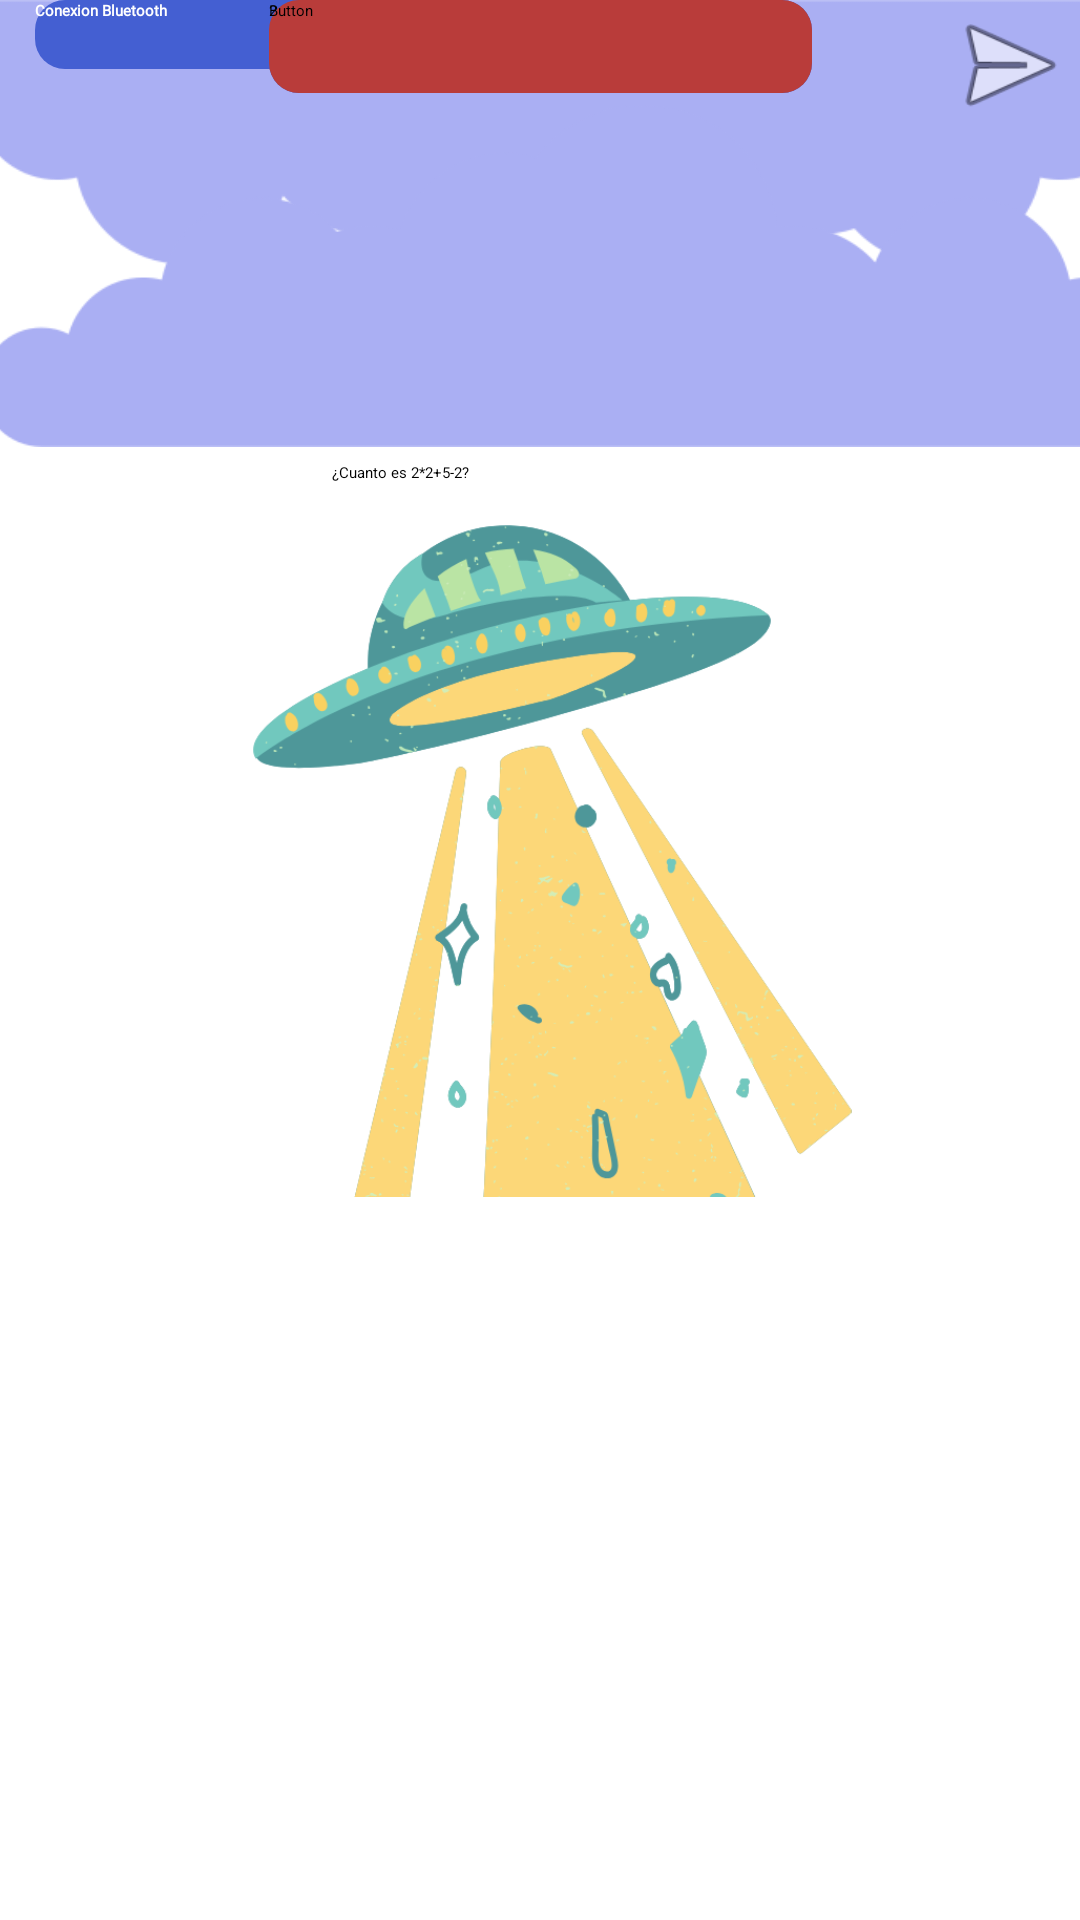

Icons on this 1080×1920 Android screen, each with the point to tap as (x=x, y=y):
send: (x=1010, y=65)
